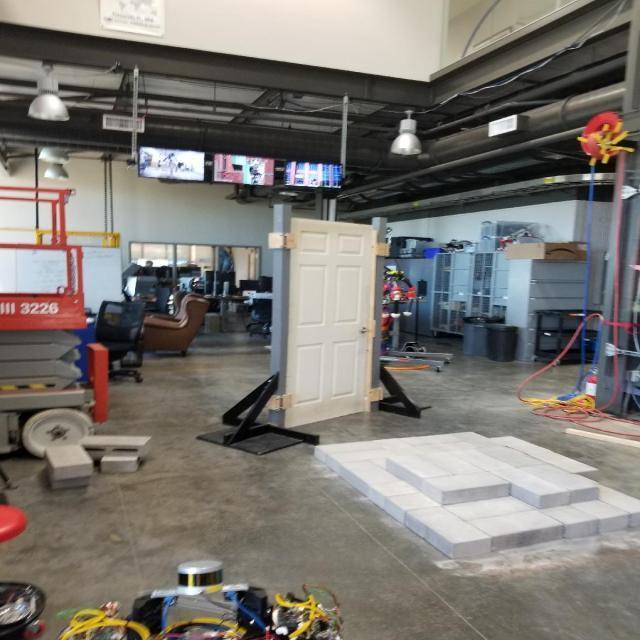door: (282, 216, 379, 429), (356, 324, 373, 336)
